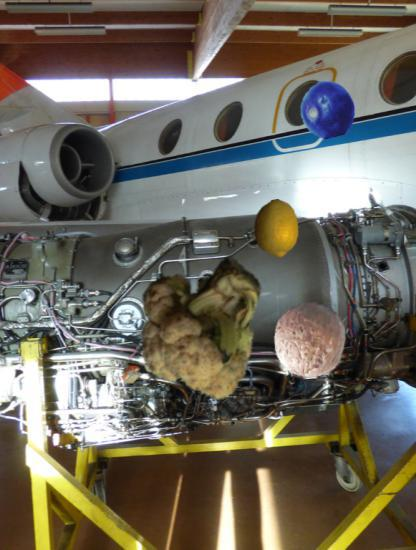Cauliflower: (128, 249, 275, 396)
Huckleberry: (299, 81, 356, 138)
Lemon: (247, 200, 306, 259)
Walnut: (272, 303, 348, 379)
